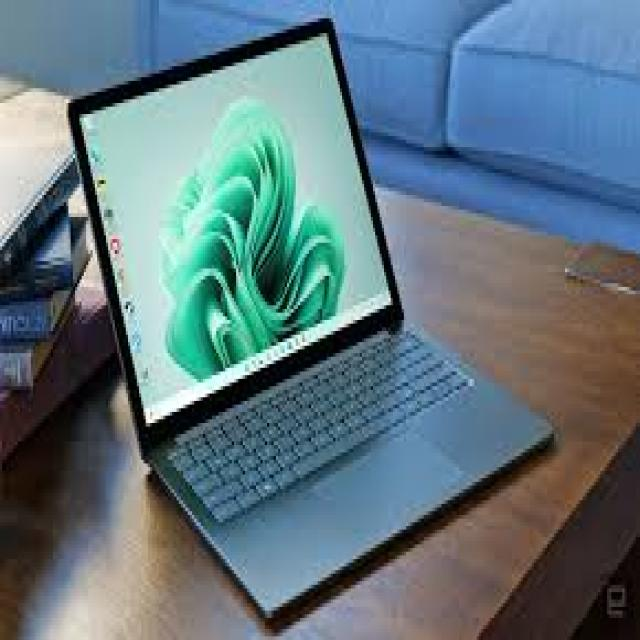others: (22, 11, 578, 629)
